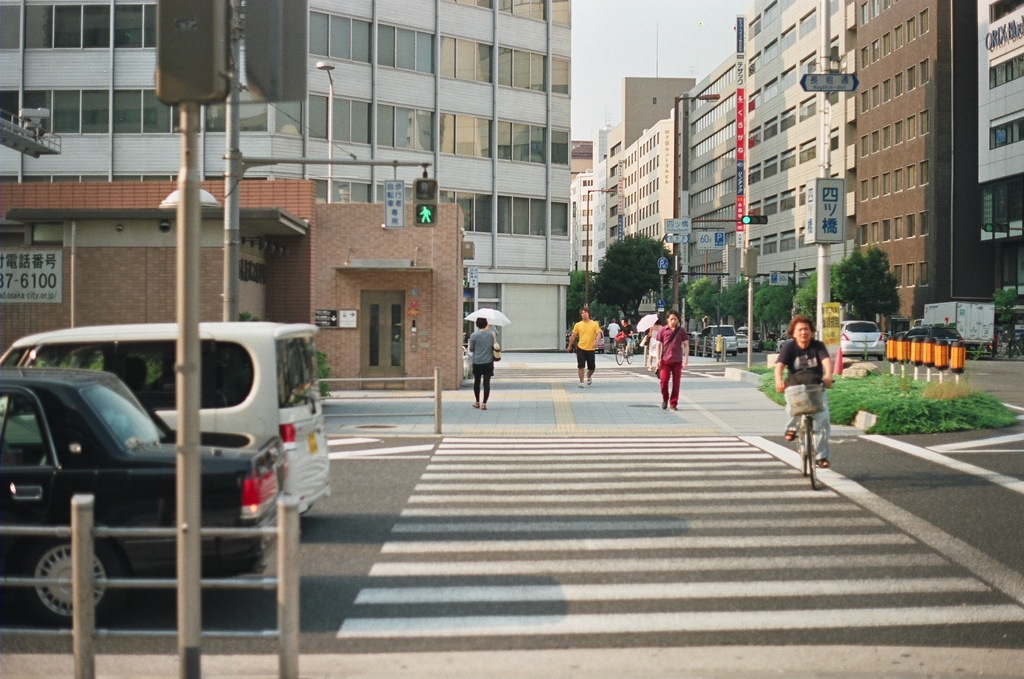green_light: (739, 214, 767, 226)
